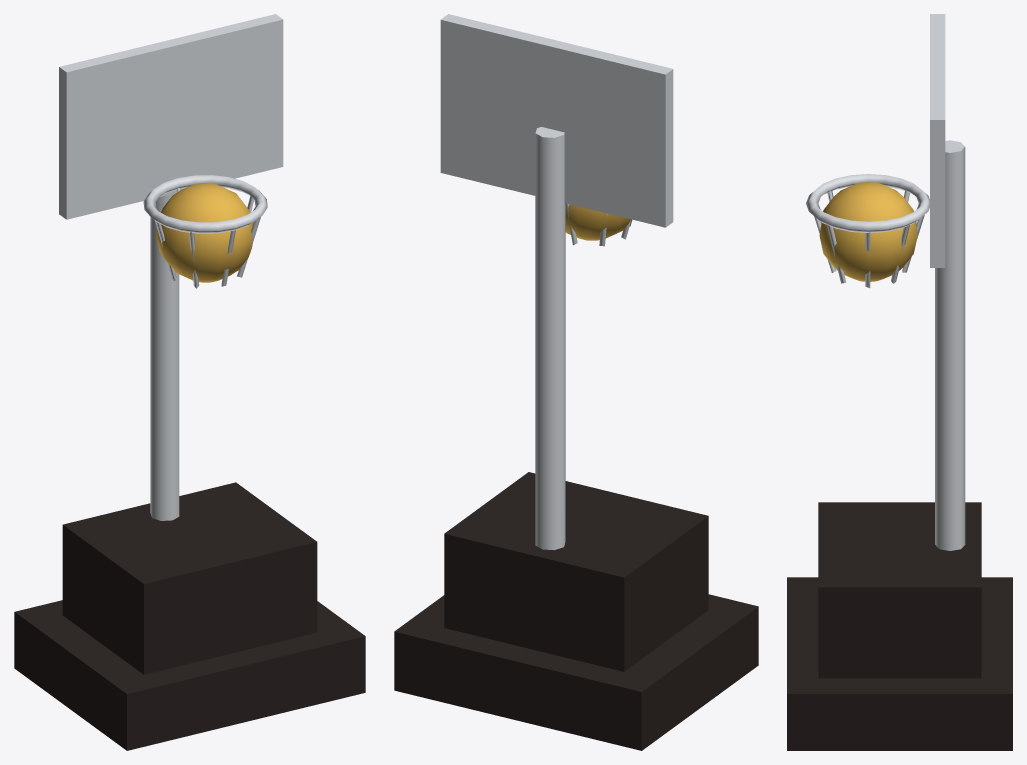
Rendered from trophy_tournament.glb.
3 renders of one model, left to right at view 1: azimuth 30°, elevation 25°; view 2: azimuth 150°, elevation 25°; view 3: azimuth 270°, elevation 25°, orthographic. The views are drawn at different scales.
Parts seen in each view (by area): view 1: trophy_base, trophy_hoop, trophy_ball, trophy_net; view 2: trophy_base, trophy_hoop, trophy_ball; view 3: trophy_base, trophy_hoop, trophy_ball, trophy_net.
Boxes of the visible parts, bbox=[...] form: trophy_base: bbox=[14, 482, 365, 750]; trophy_hoop: bbox=[59, 14, 283, 520]; trophy_ball: bbox=[155, 183, 253, 282]; trophy_net: bbox=[155, 188, 260, 288]; trophy_base: bbox=[394, 472, 758, 750]; trophy_hoop: bbox=[440, 14, 673, 550]; trophy_ball: bbox=[565, 204, 631, 240]; trophy_base: bbox=[787, 502, 1012, 750]; trophy_hoop: bbox=[806, 14, 965, 550]; trophy_ball: bbox=[819, 182, 917, 281]; trophy_net: bbox=[814, 190, 924, 287].
Bounding box in the file's own units: 0.22 × 0.55 × 0.18.
